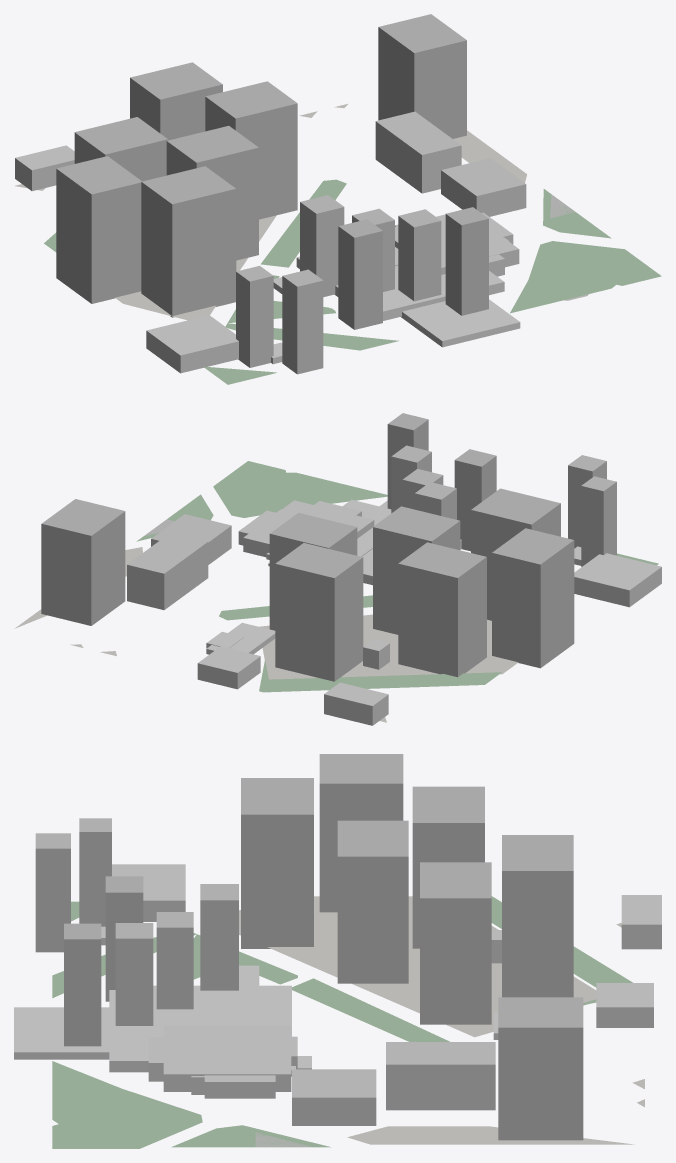
Rendered from 133_88_mid.glb.
3 renders of one model, top to bottom at view 1: azimuth 30°, elevation 25°; view 2: azimuth 150°, elevation 25°; view 3: azimuth 270°, elevation 25°, orthographic. The views are drawn at different scales.
Size of the model in its own units: 529 by 128 by 547.
